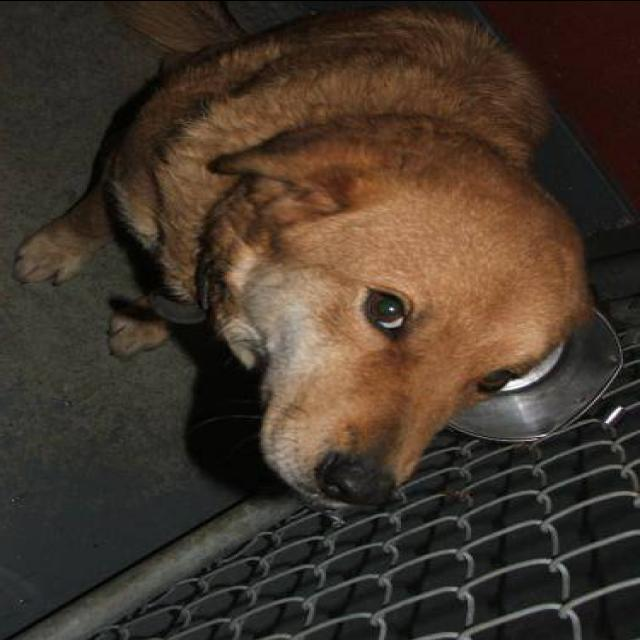dog: (0, 0, 610, 518)
